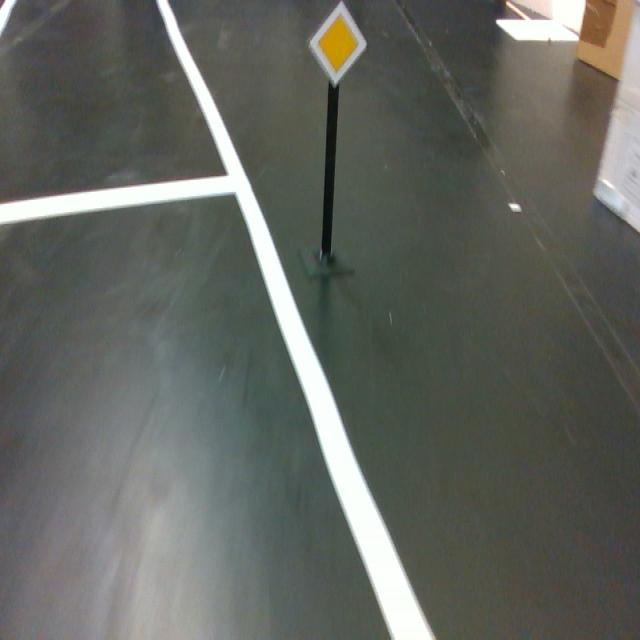priority-sign: (307, 0, 368, 90)
